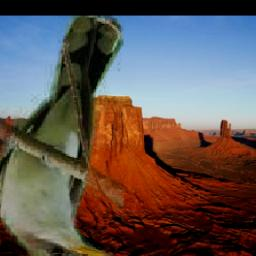Cuckoo: (0, 15, 122, 256)
